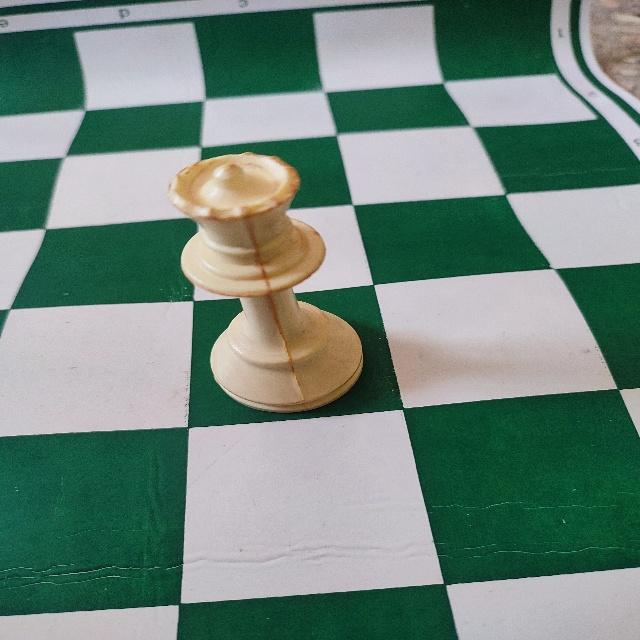Queen: (164, 152, 369, 414)
